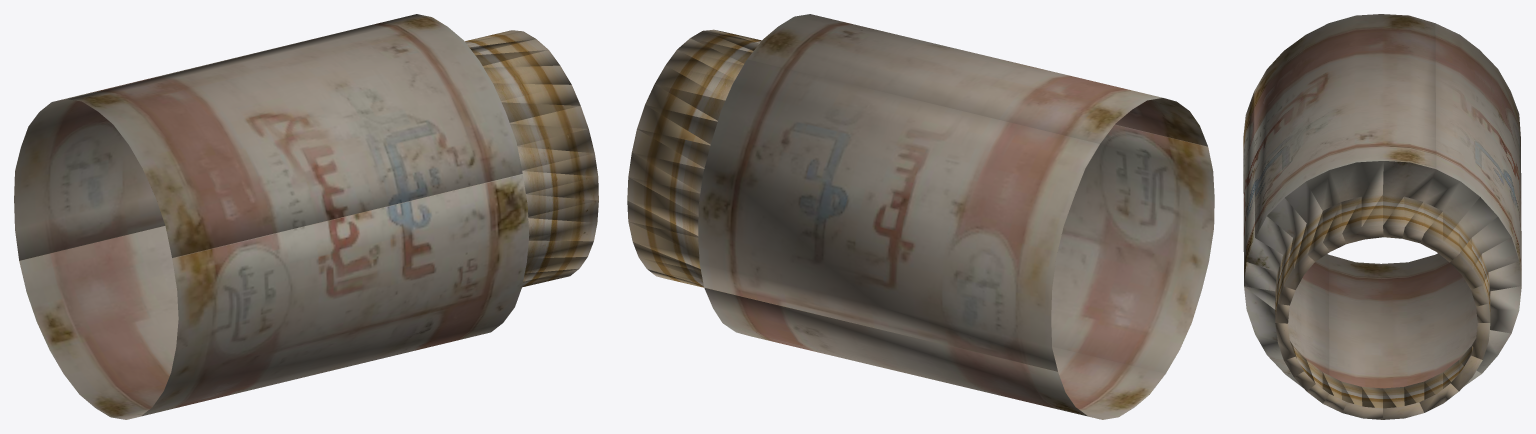
Rendered from Pill Bottle.fbx.
3 renders of one model, left to right at view 1: azimuth 30°, elevation 25°; view 2: azimuth 150°, elevation 25°; view 3: azimuth 270°, elevation 25°, orthographic. The views are drawn at different scales.
Visible parts, largest first — view 1: tripo_node_aeb9ab72-fa4c-413a-9b9a-d0b469a375c2; view 2: tripo_node_aeb9ab72-fa4c-413a-9b9a-d0b469a375c2; view 3: tripo_node_aeb9ab72-fa4c-413a-9b9a-d0b469a375c2.
Part boxes in pixels (x1,y1,x2,y2): tripo_node_aeb9ab72-fa4c-413a-9b9a-d0b469a375c2: (14,14,598,419); tripo_node_aeb9ab72-fa4c-413a-9b9a-d0b469a375c2: (627,14,1214,419); tripo_node_aeb9ab72-fa4c-413a-9b9a-d0b469a375c2: (1243,14,1521,419).
Bounding box in the file's own units: 99.8 × 64.26 × 64.26.
Materials: 1 (1 with a texture image).
